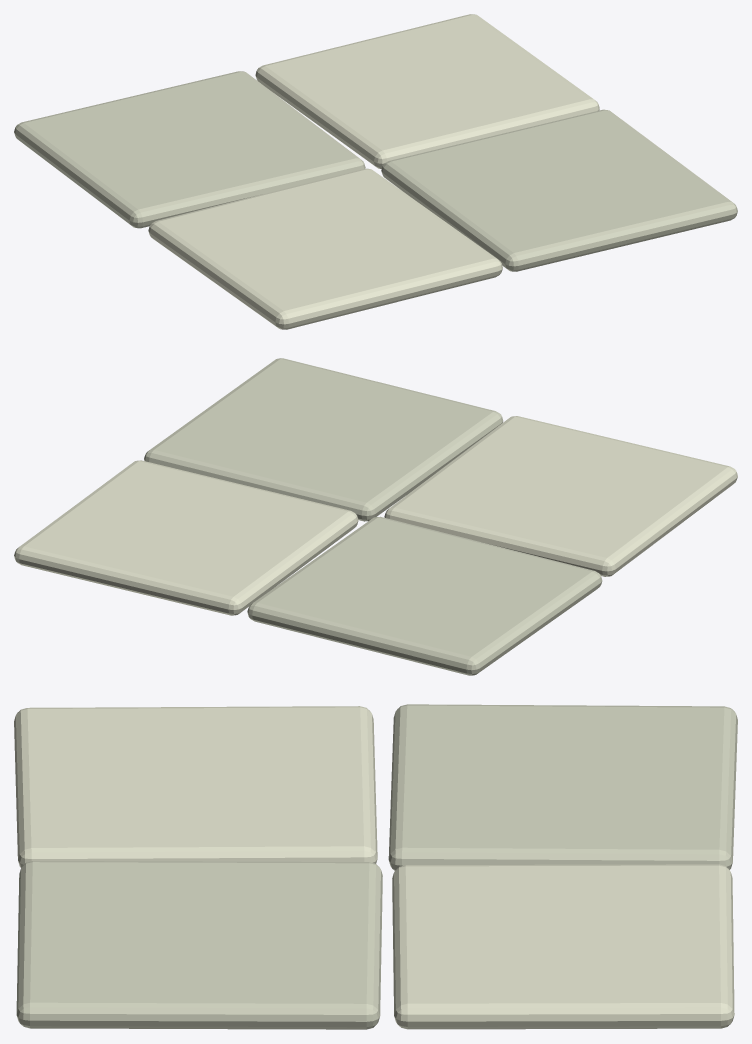
File: heaven_tile.glb
The picture shows the model from 3 angles, top to bottom: view 1: azimuth 30°, elevation 25°; view 2: azimuth 150°, elevation 25°; view 3: azimuth 270°, elevation 25°; orthographic projection. The views are drawn at different scales.
Parts seen in each view (by area): view 1: Merged Worn ivory stepping stone, Merged Pale garden limestone; view 2: Merged Worn ivory stepping stone, Merged Pale garden limestone; view 3: Merged Worn ivory stepping stone, Merged Pale garden limestone.
Part boxes in pixels (<box>): Merged Worn ivory stepping stone: <box>14,71,737,271</box>; Merged Pale garden limestone: <box>148,14,599,329</box>; Merged Worn ivory stepping stone: <box>144,358,602,675</box>; Merged Pale garden limestone: <box>14,416,737,615</box>; Merged Worn ivory stepping stone: <box>16,704,737,1029</box>; Merged Pale garden limestone: <box>14,706,734,1029</box>.
Size of the model in its own units: 1.89 by 0.07 by 1.87.
